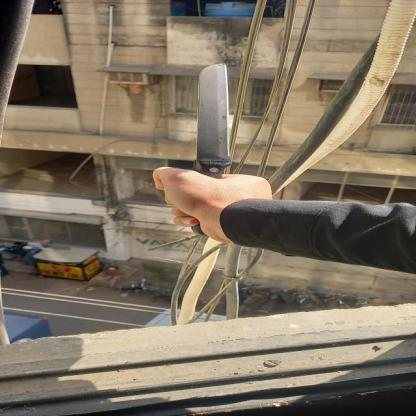Knife: (180, 60, 248, 203)
